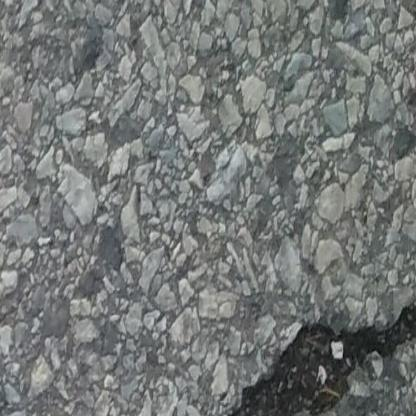Cracks: (211, 287, 416, 416)
